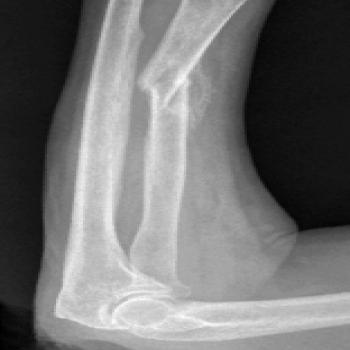Fracture: (134, 63, 212, 110)
